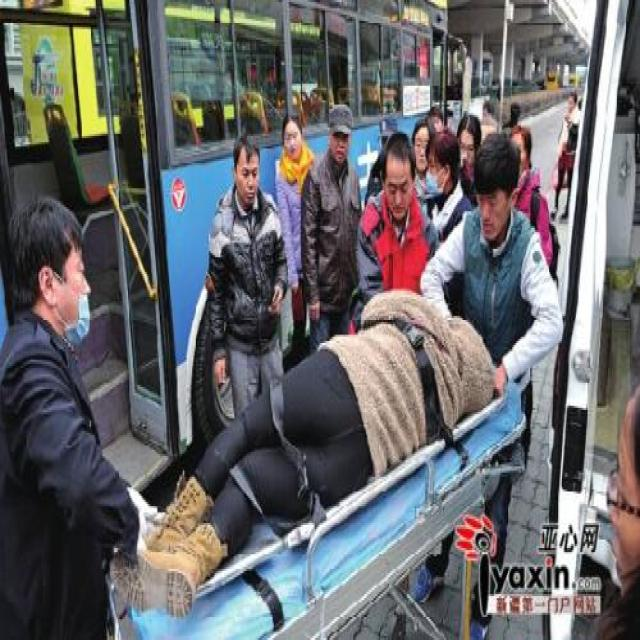10-: (0, 81, 639, 638)
down: (104, 280, 508, 626)
